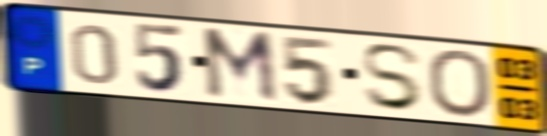0: (67, 22, 123, 86)
5: (277, 33, 339, 107), (132, 23, 193, 96)
M: (198, 26, 282, 107)
O: (424, 48, 494, 120)
S: (358, 42, 426, 114)
